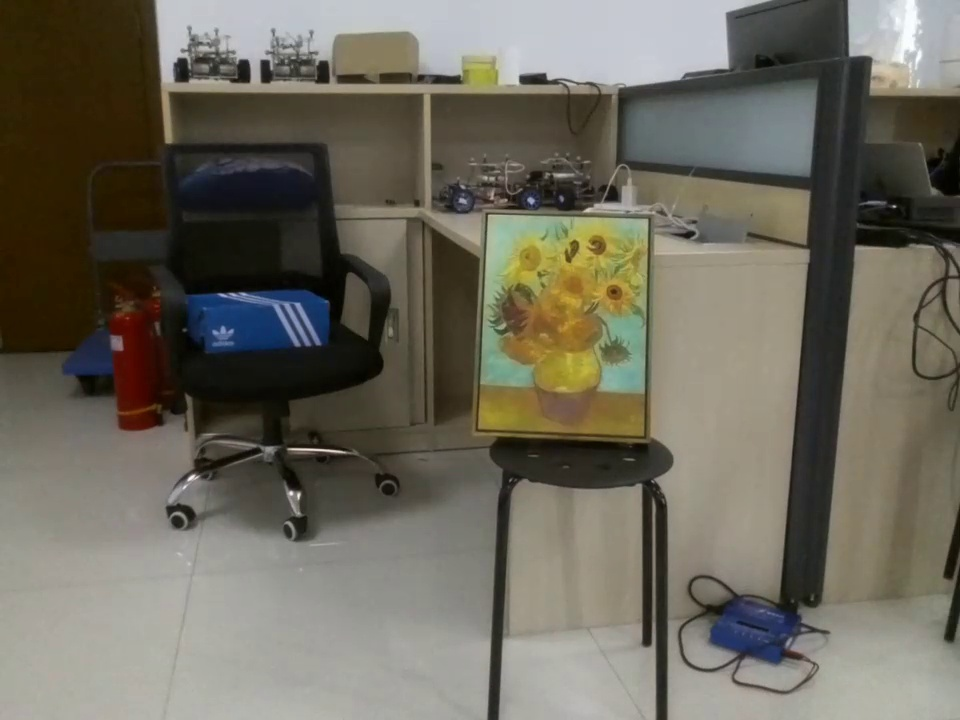painting: (476, 211, 659, 448)
